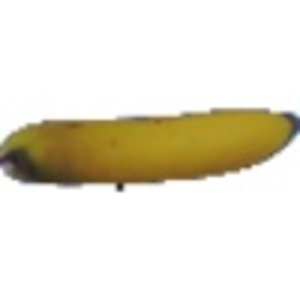banana: (3, 104, 291, 191)
